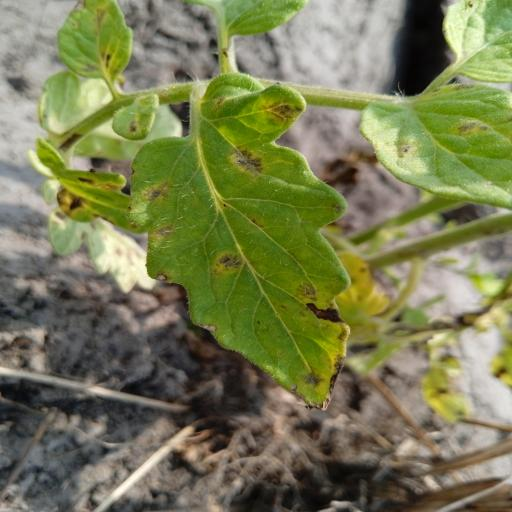Tomato_Brown_Spots: (122, 73, 355, 418), (356, 83, 512, 213), (48, 0, 135, 83)
